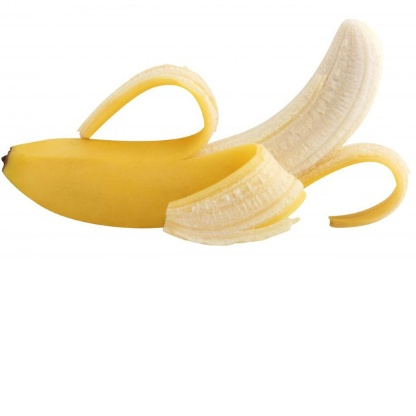chuoi: (0, 9, 408, 261)
